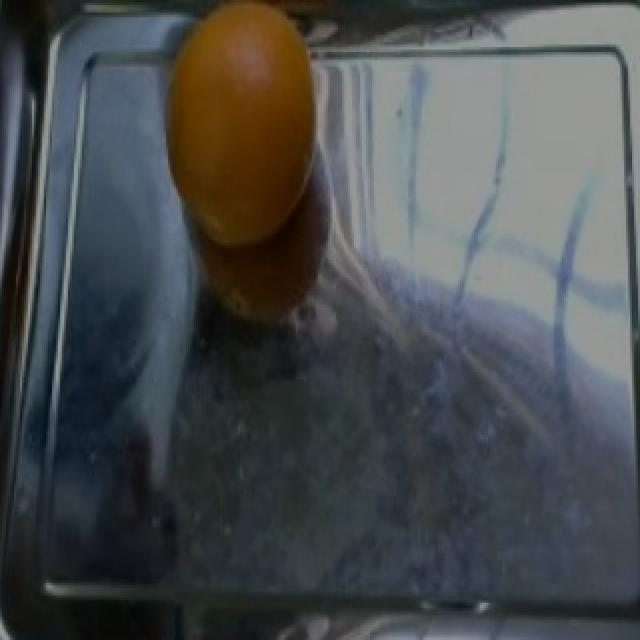Fruit: (162, 0, 328, 258)
